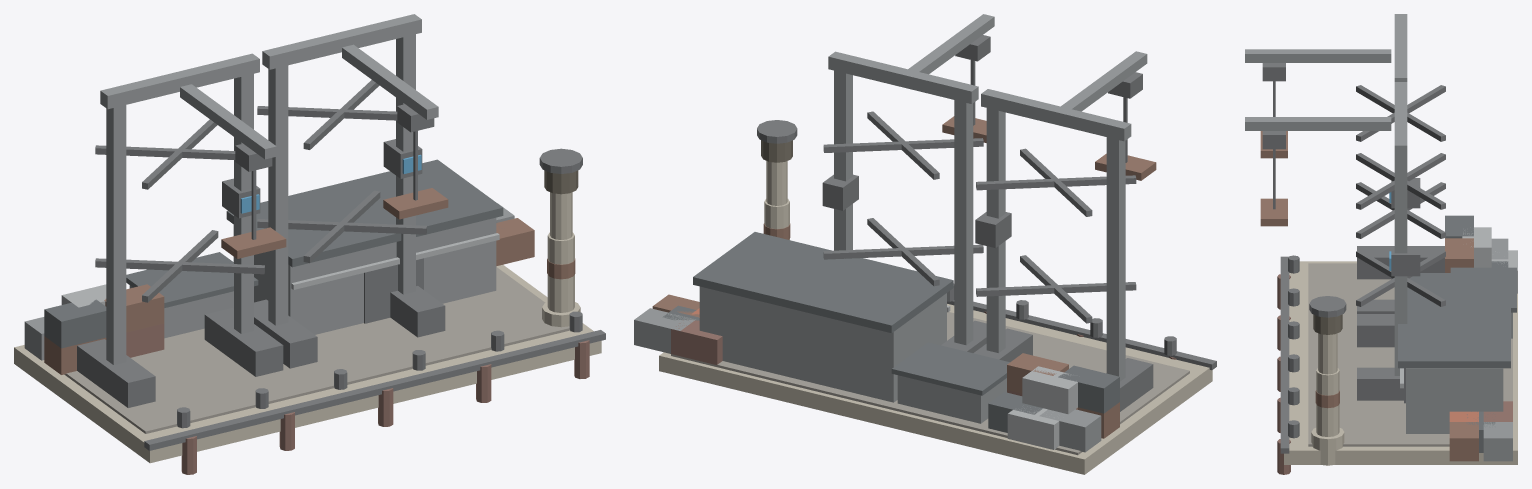
File: port.glb
3 views of the same model, side by side, from view 1: azimuth 30°, elevation 25°; view 2: azimuth 150°, elevation 25°; view 3: azimuth 270°, elevation 25° (orthographic). The views are drawn at different scales.
Visible parts, largest first — view 1: port_quay_surface.001, port_quay.001, port_wh_main, port_wh_roof_a, port_crane_a_legA.001, port_quay_edge.001, port_crane_b_legA.001, port_wh_roof_b, port_crane_a_girder, port_crane_b_girder, port_crane_a_legB.001, port_crane_a_baseB.001 (+35 smaller); view 2: port_wh_main, port_quay.001, port_wh_roof_b, port_quay_surface.001, port_wh_roof_a, port_crane_b_legA.001, port_crane_a_legA.001, port_crane_a_legB.001, port_shed_roof.001, port_crane_b_girder, port_crane_a_girder, port_shed.001 (+30 smaller); view 3: port_quay_surface.001, port_quay.001, port_wh_roof_b, port_wh_main, port_wh_roof_a, port_crane_b_legB.001, port_crane_a_boom.001, port_crane_b_boom.001, port_quay_edge.001, port_crane_b_baseB.001, port_crane_a_baseA.001, port_crane_b_baseA.001 (+32 smaller).
Part boxes in pixels (bbox=[...]): port_quay_surface.001: bbox=[64, 267, 569, 433]; port_quay.001: bbox=[14, 265, 601, 463]; port_wh_main: bbox=[233, 217, 496, 334]; port_wh_roof_a: bbox=[288, 182, 503, 267]; port_crane_a_legA.001: bbox=[106, 98, 126, 364]; port_quay_edge.001: bbox=[144, 330, 605, 450]; port_crane_b_legA.001: bbox=[268, 59, 288, 325]; port_wh_roof_b: bbox=[226, 159, 471, 230]; port_crane_a_girder: bbox=[100, 53, 259, 109]; port_crane_b_girder: bbox=[262, 14, 421, 69]; port_crane_a_legB.001: bbox=[234, 67, 253, 333]; port_crane_a_baseB.001: bbox=[204, 308, 283, 376]; port_wh_main: bbox=[699, 286, 946, 402]; port_quay.001: bbox=[659, 304, 1212, 474]; port_wh_roof_b: bbox=[693, 256, 924, 333]; port_quay_surface.001: bbox=[671, 312, 1189, 455]; port_wh_roof_a: bbox=[722, 232, 953, 308]; port_crane_b_legA.001: bbox=[954, 100, 973, 344]; port_crane_a_legA.001: bbox=[1106, 131, 1125, 381]; port_crane_a_legB.001: bbox=[986, 101, 1005, 352]; port_shed_roof.001: bbox=[891, 342, 1009, 395]; port_crane_b_girder: bbox=[828, 51, 978, 103]; port_crane_a_girder: bbox=[981, 89, 1131, 141]; port_shed.001: bbox=[897, 375, 1006, 423]; port_quay_surface.001: bbox=[1308, 263, 1512, 446]; port_quay.001: bbox=[1284, 261, 1517, 464]; port_wh_roof_b: bbox=[1450, 273, 1510, 368]; port_wh_main: bbox=[1406, 368, 1503, 433]; port_wh_roof_a: bbox=[1398, 273, 1458, 368]; port_crane_b_legB.001: bbox=[1394, 157, 1407, 375]; port_crane_a_boom.001: bbox=[1245, 49, 1391, 62]; port_crane_b_boom.001: bbox=[1245, 117, 1391, 130]; port_quay_edge.001: bbox=[1280, 256, 1289, 453]; port_crane_b_baseB.001: bbox=[1357, 367, 1403, 400]; port_crane_a_baseA.001: bbox=[1357, 246, 1444, 279]; port_crane_b_baseA.001: bbox=[1357, 314, 1394, 347].
Bounding box in the file's own units: 4.92 × 3.24 × 2.8.
